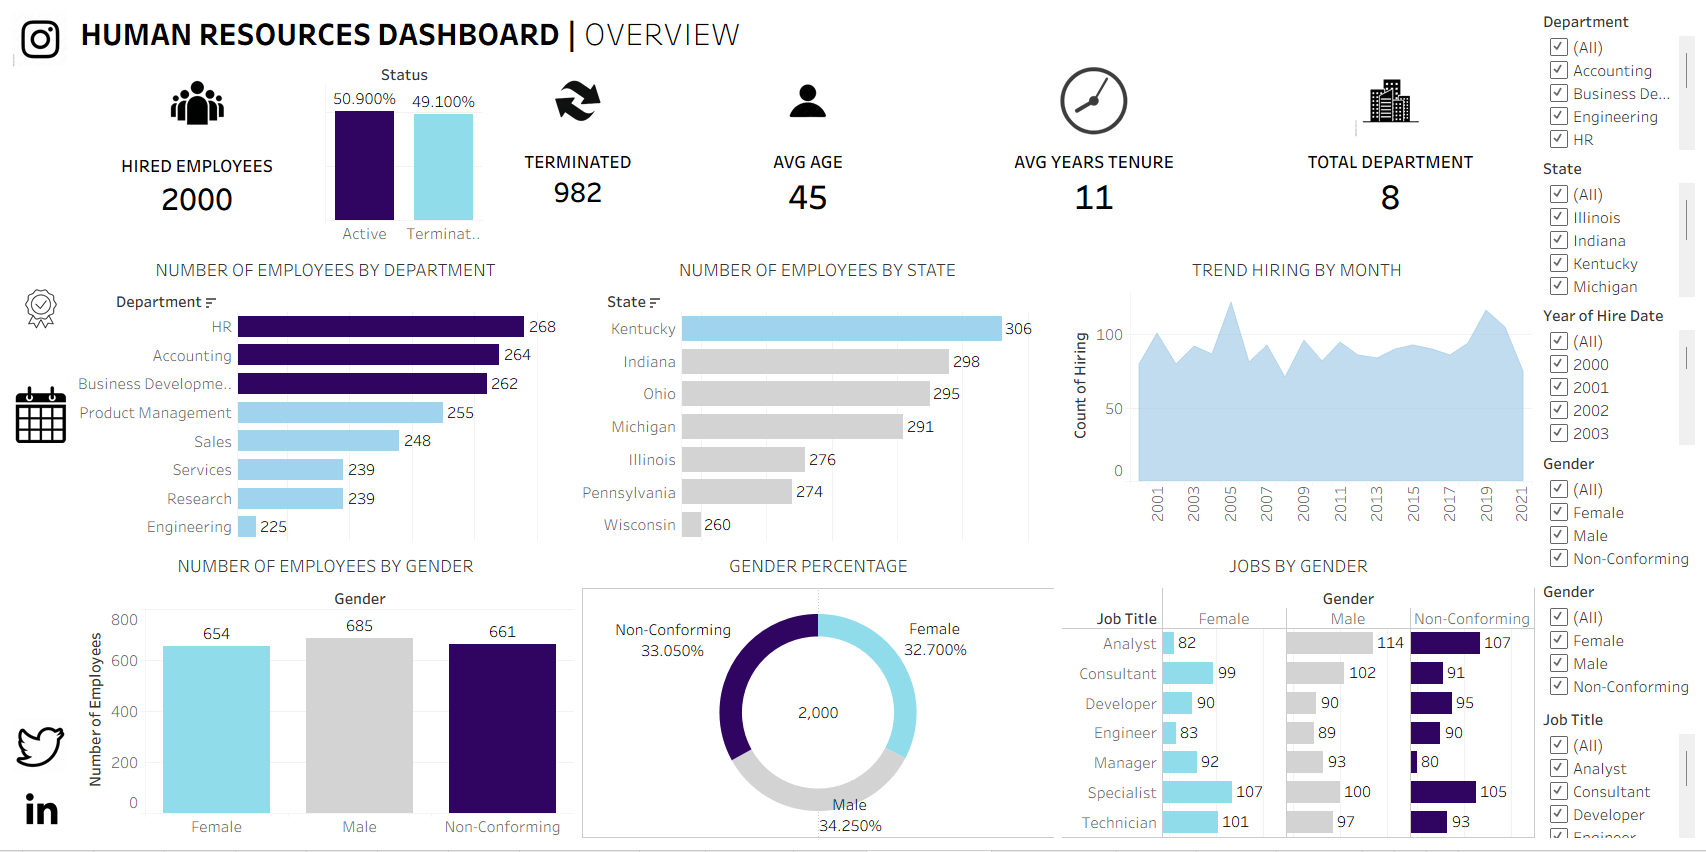

This screenshot's page, from the dashboard's own definition file:
{"tool":"tableau","page":{"name":"Dashboard 1","canvas":[1000,1000],"units":"permille","ordinal":0},"visuals":[{"type":"image","param":"Image/insta.jpg","box":[4.8,9.4,38.1,75.2]},{"type":"text","box":[42.9,9.4,855.7,62.3]},{"type":"filter","title":"Sheet 1","param":"[federated.0ulmvm402wxi2r1d5u2rl0w7zshx].[none:Department:nk]","box":[898.6,9.4,96.6,172.7]},{"type":"image","param":"Image/employees-removebg-preview.png","box":[42.9,71.7,144.9,99.9]},{"type":"worksheet","title":"Sheet 8","mark":"Automatic","rows":["Sheet1_0D6933D2922443EB89324EAB2CD94470"],"cols":["Status"],"box":[187.8,71.7,97,222.1]},{"type":"image","param":"Image/OIP-removebg-preview.png","box":[284.8,71.7,106.4,95.2]},{"type":"image","param":"Image/OIP__1_-removebg-preview.png","box":[391.2,71.7,161.2,95.2]},{"type":"image","param":"Image/time-removebg-preview.png","box":[552.4,71.7,173,95.2]},{"type":"image","param":"Image/building-removebg-preview.png","box":[725.4,71.7,173.2,95.2]},{"type":"blank","box":[4.8,84.6,38.1,224.4]},{"type":"worksheet","title":"terminated kpi","mark":"Automatic","box":[284.8,166.9,106.4,126.9]},{"type":"worksheet","title":"age kpi","mark":"Automatic","box":[391.2,166.9,161.2,126.9]},{"type":"worksheet","title":"tenure kpi","mark":"Automatic","box":[552.4,166.9,173,126.9]},{"type":"worksheet","title":"dept kpi","mark":"Automatic","box":[725.4,166.9,173.2,126.9]},{"type":"worksheet","title":"Sheet 7","mark":"Automatic","box":[42.9,171.6,144.9,122.2]},{"type":"filter","title":"Sheet 2","param":"[federated.0ulmvm402wxi2r1d5u2rl0w7zshx].[none:State:nk]","box":[898.6,182.1,96.6,172.7]},{"type":"worksheet","title":"Sheet 1","mark":"Automatic","rows":["Department"],"cols":["Sheet1_0D6933D2922443EB89324EAB2CD94470"],"box":[42.9,293.8,294.5,348.4]},{"type":"worksheet","title":"Sheet 2","mark":"Automatic","rows":["State"],"cols":["Sheet1_0D6933D2922443EB89324EAB2CD94470"],"box":[337.4,293.8,280.6,348.4]},{"type":"worksheet","title":"Sheet 3","mark":"Area","rows":["Sheet1_0D6933D2922443EB89324EAB2CD94470"],"cols":["Hire Date"],"box":[618,293.8,280.6,348.4]},{"type":"image","param":"Image/premium-removebg-preview.png","box":[4.8,309.1,38.1,109.3]},{"type":"filter","title":"Sheet 3","param":"[federated.0ulmvm402wxi2r1d5u2rl0w7zshx].[yr:Hire Date:ok]","box":[898.6,354.9,96.6,173.9]},{"type":"dashboard-object","box":[4.8,418.3,38.1,141]},{"type":"filter","title":"Sheet 4","param":"[federated.0ulmvm402wxi2r1d5u2rl0w7zshx].[none:Gender:nk]","box":[898.6,528.8,96.6,150.4]},{"type":"blank","box":[4.8,559.3,38.1,282]},{"type":"worksheet","title":"Sheet 4","mark":"Automatic","rows":["Sheet1_0D6933D2922443EB89324EAB2CD94470"],"cols":["Gender"],"box":[42.9,642.2,294.6,348.4]},{"type":"worksheet","title":"Sheet 5","mark":"Pie","cols":["Calculation_1219690807922688","Calculation_1219690807992321"],"box":[337.5,642.2,280.6,348.4]},{"type":"worksheet","title":"Sheet 6","mark":"Automatic","rows":["Job Title"],"cols":["Gender","Sheet1_0D6933D2922443EB89324EAB2CD94470"],"box":[618,642.2,280.6,348.4]},{"type":"filter","title":"Sheet 5","param":"[federated.0ulmvm402wxi2r1d5u2rl0w7zshx].[none:Gender:nk]","box":[898.6,679.2,96.6,150.4]},{"type":"filter","title":"Sheet 6","param":"[federated.0ulmvm402wxi2r1d5u2rl0w7zshx].[none:Job Title:nk]","box":[898.6,829.6,96.6,161]},{"type":"image","param":"Image/twitter.jpg","box":[4.8,841.4,38.1,72.9]},{"type":"image","param":"Image/linkedin.jpg","box":[4.8,914.2,38.1,76.4]}]}

Visuals, with their boxes on the dashboard's canvas, which has no fixed pixel size, in thousandths of its width and height (x1, y1, x2, y2). These are canvas units, not pixel positions in the 1706x852 screenshot, which may show the page scaled, cropped or inside an application window:
image: locate(5, 9, 43, 85)
text: locate(43, 9, 899, 72)
"Sheet 1" filter: locate(899, 9, 995, 182)
image: locate(43, 72, 188, 172)
"Sheet 8" worksheet: locate(188, 72, 285, 294)
image: locate(285, 72, 391, 167)
image: locate(391, 72, 552, 167)
image: locate(552, 72, 725, 167)
image: locate(725, 72, 899, 167)
blank: locate(5, 85, 43, 309)
"terminated kpi" worksheet: locate(285, 167, 391, 294)
"age kpi" worksheet: locate(391, 167, 552, 294)
"tenure kpi" worksheet: locate(552, 167, 725, 294)
"dept kpi" worksheet: locate(725, 167, 899, 294)
"Sheet 7" worksheet: locate(43, 172, 188, 294)
"Sheet 2" filter: locate(899, 182, 995, 355)
"Sheet 1" worksheet: locate(43, 294, 337, 642)
"Sheet 2" worksheet: locate(337, 294, 618, 642)
"Sheet 3" worksheet (Area marks): locate(618, 294, 899, 642)
image: locate(5, 309, 43, 418)
"Sheet 3" filter: locate(899, 355, 995, 529)
dashboard-object: locate(5, 418, 43, 559)
"Sheet 4" filter: locate(899, 529, 995, 679)
blank: locate(5, 559, 43, 841)
"Sheet 4" worksheet: locate(43, 642, 338, 991)
"Sheet 5" worksheet (Pie marks): locate(338, 642, 618, 991)
"Sheet 6" worksheet: locate(618, 642, 899, 991)
"Sheet 5" filter: locate(899, 679, 995, 830)
"Sheet 6" filter: locate(899, 830, 995, 991)
image: locate(5, 841, 43, 914)
image: locate(5, 914, 43, 991)
